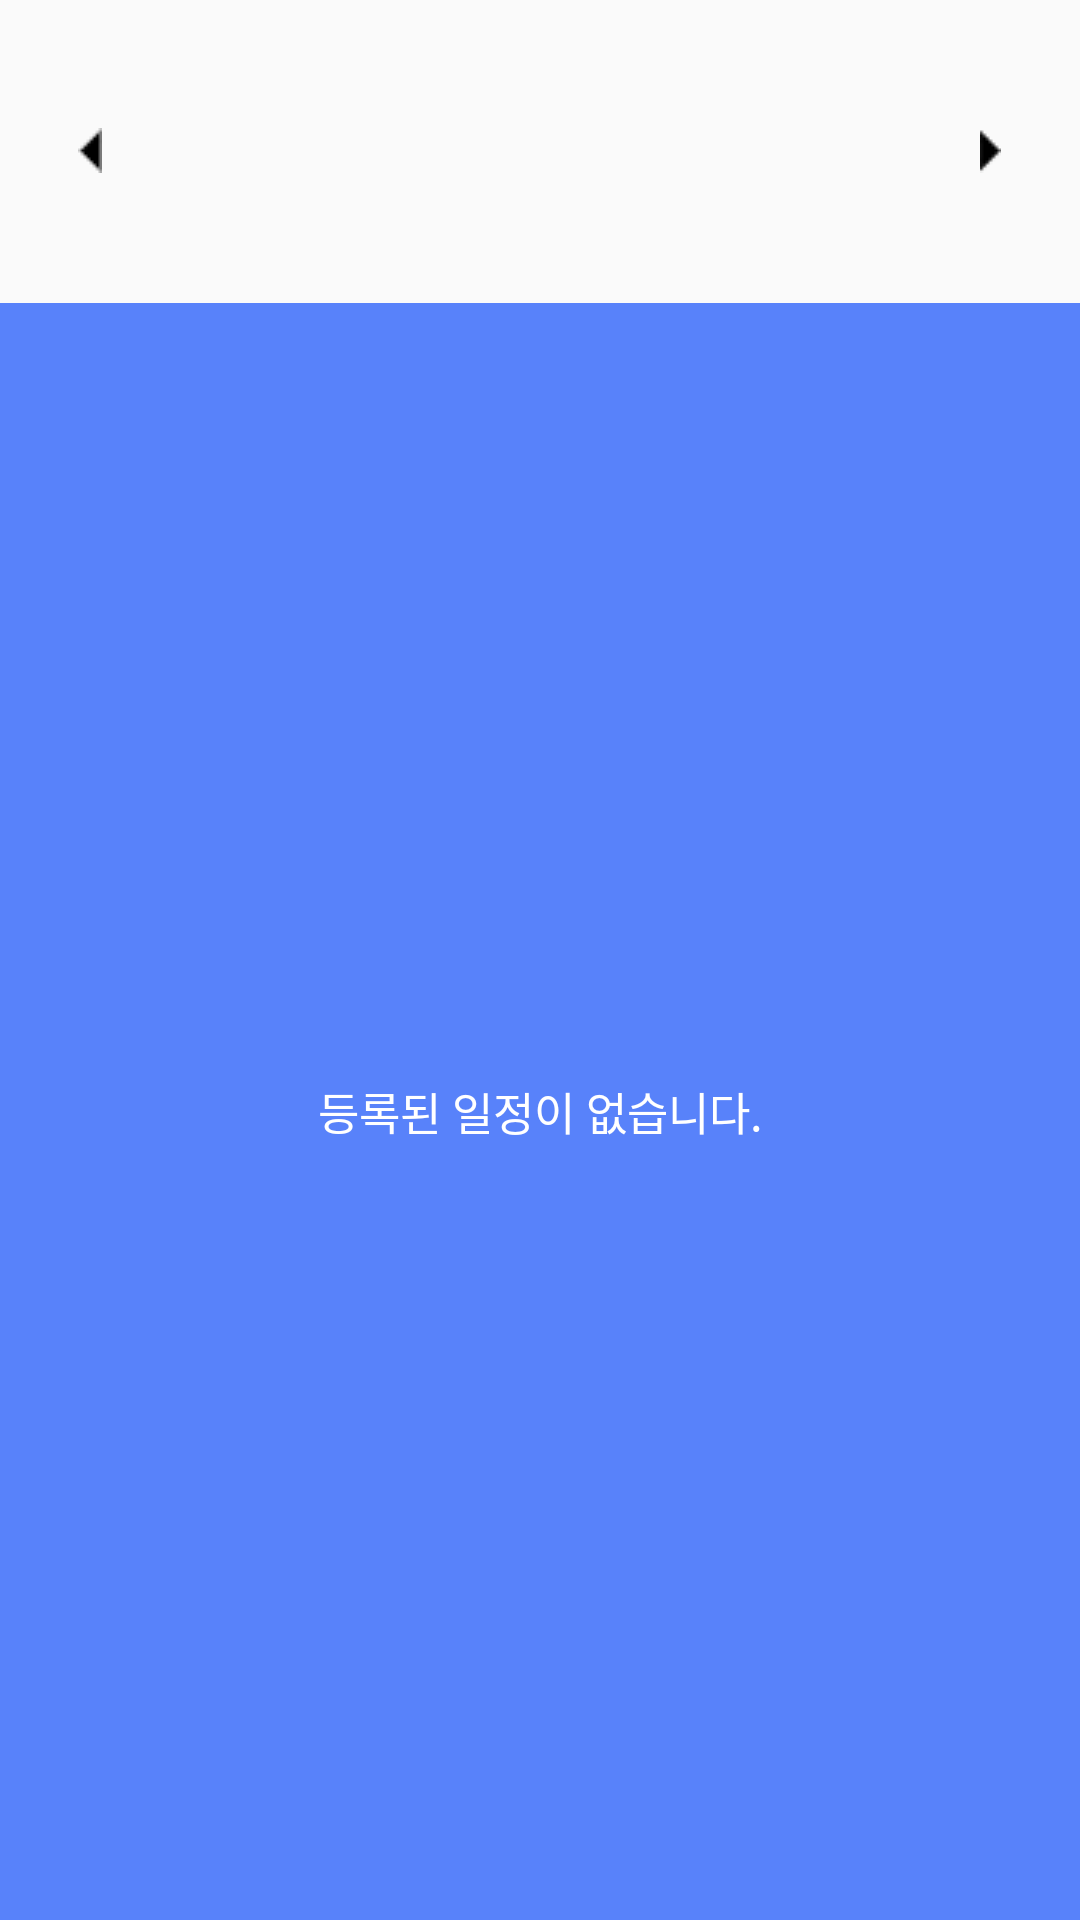

Locate icon controls on the screen. Image size 1080x1920, boxes as (x1, y1, x2, y2).
next: (980, 130, 1001, 171)
prev: (78, 128, 102, 173)
